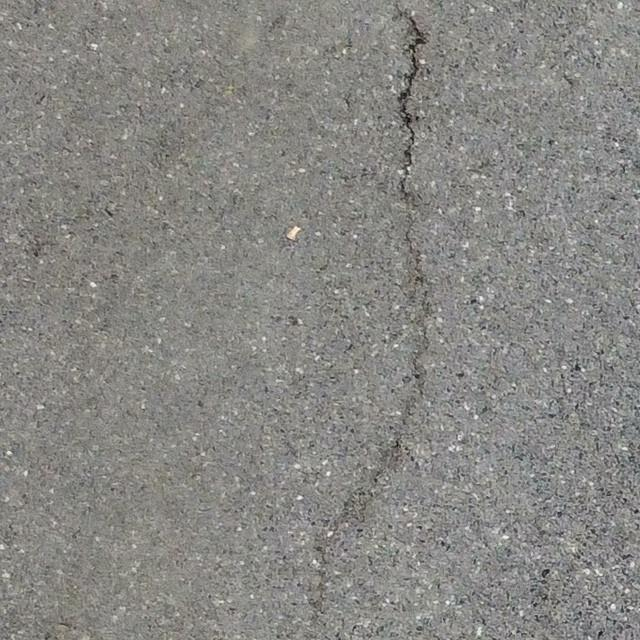LongitudinalCrack: (314, 1, 431, 618)
